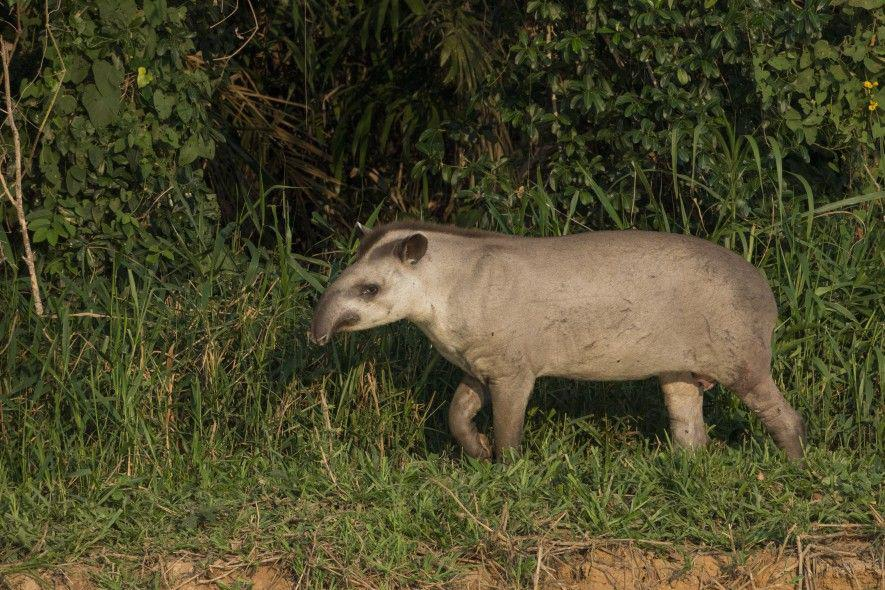Anta: (300, 202, 827, 479)
